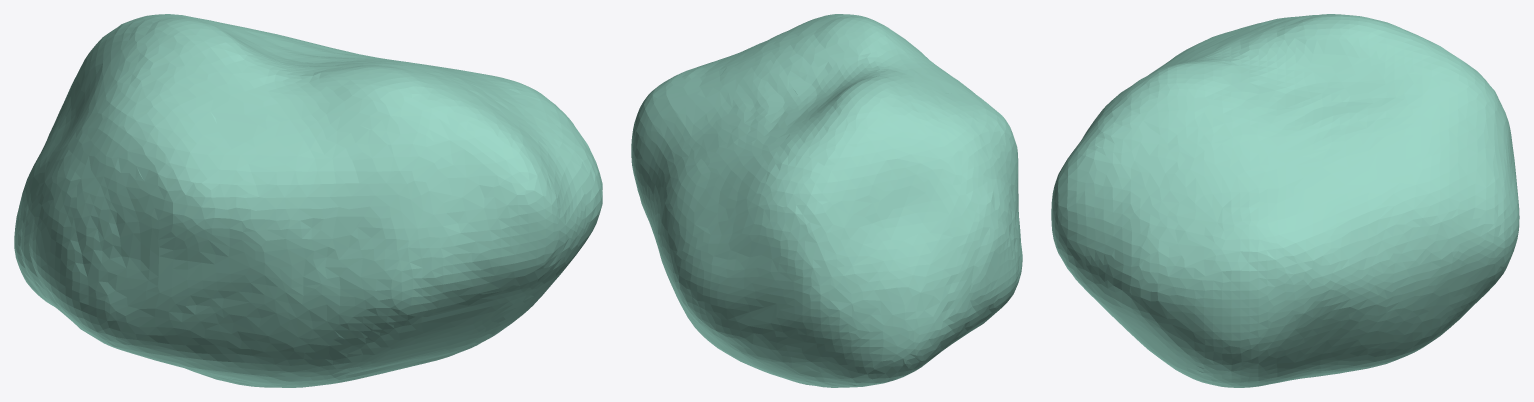
The model's file is ours.glb.
The picture shows the model from 3 angles, left to right: view 1: azimuth 30°, elevation 25°; view 2: azimuth 150°, elevation 25°; view 3: azimuth 270°, elevation 25°; orthographic projection. The views are drawn at different scales.
Visible parts, largest first — view 1: world; view 2: world; view 3: world.
Part boxes in pixels (bbox=[...]): world: bbox=[14, 14, 602, 387]; world: bbox=[631, 14, 1022, 387]; world: bbox=[1051, 14, 1519, 387].
Size of the model in its own units: 0.8425 by 0.5943 by 0.8058.
